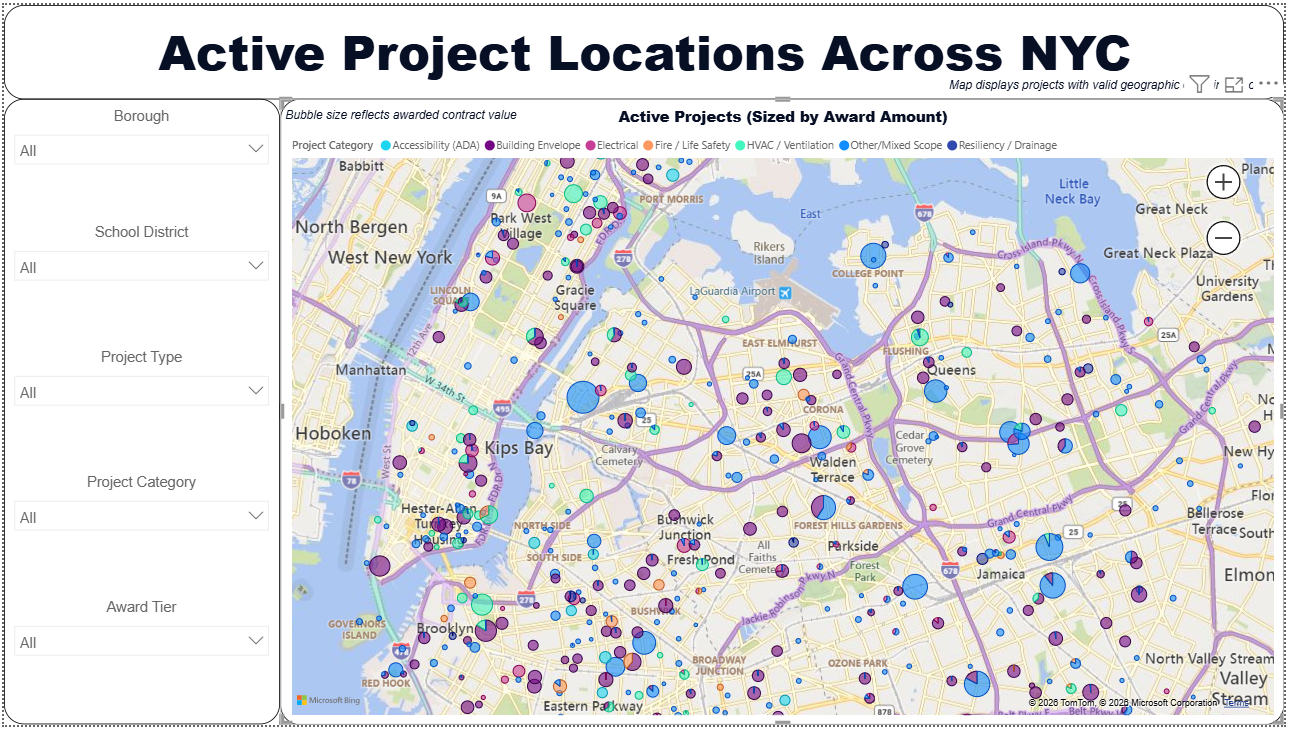

The dashboard page shown, as its layout file describes it:
{"tool":"powerbi","page":{"name":"NYC Project Locations","canvas":[1280,720],"ordinal":2},"visuals":[{"type":"textbox","box":[0,0,1280,94.3],"z":0},{"type":"textbox","box":[700,63.8,571.2,61.2],"z":1000},{"type":"map","title":"Active Projects (Sized by Award Amount)","fields":{"Y":["Fact_ActiveProjects_All.Latitude"],"X":["Fact_ActiveProjects_All.Longitude"],"Size":["Sum(Fact_ActiveProjects_All.Construction Award ($))"],"Series":["Fact_ActiveProjects_All.Project Category"]},"box":[276.2,93.8,1003.8,626.2],"z":2000},{"type":"shape","box":[0,94.3,275.7,625.7],"z":3000},{"type":"slicer","title":"Borough","fields":{"Values":["Fact_ActiveProjects_All.Borough"]},"box":[0,102.5,275,116.2],"z":4000},{"type":"slicer","title":"School District","fields":{"Values":["Fact_ActiveProjects_All.School District"]},"box":[0,218.8,275,125],"z":5000},{"type":"slicer","title":"Project Type","fields":{"Values":["Fact_ActiveProjects_All.Project Type"]},"box":[0,343.8,275,125],"z":6000},{"type":"slicer","title":"Project Category","fields":{"Values":["Fact_ActiveProjects_All.Project Category"]},"box":[0,468.8,275,125],"z":7000},{"type":"slicer","title":"Award Tier","fields":{"Values":["Fact_ActiveProjects_All.Award Tier"]},"box":[0,593.8,275,125],"z":8000},{"type":"textbox","box":[276.3,94.1,287.3,41.6],"z":9000}]}

Visuals, with their boxes in screenshot pixels (x1, y1, x2, y2), scaled from the page's 1280x720 canvas onto the 1291x733 screenshot:
textbox: {"left": 0, "top": 0, "right": 1290, "bottom": 96}
textbox: {"left": 706, "top": 65, "right": 1282, "bottom": 127}
"Active Projects (Sized by Award Amount)" map: {"left": 279, "top": 95, "right": 1290, "bottom": 732}
shape: {"left": 0, "top": 96, "right": 278, "bottom": 732}
"Borough" slicer: {"left": 0, "top": 104, "right": 277, "bottom": 223}
"School District" slicer: {"left": 0, "top": 223, "right": 277, "bottom": 350}
"Project Type" slicer: {"left": 0, "top": 350, "right": 277, "bottom": 477}
"Project Category" slicer: {"left": 0, "top": 477, "right": 277, "bottom": 605}
"Award Tier" slicer: {"left": 0, "top": 605, "right": 277, "bottom": 732}
textbox: {"left": 279, "top": 96, "right": 568, "bottom": 138}
